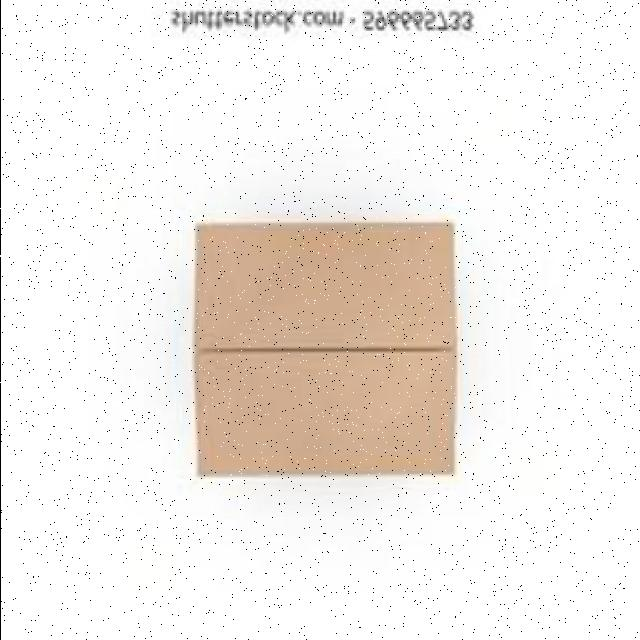normal: (183, 212, 462, 485)
